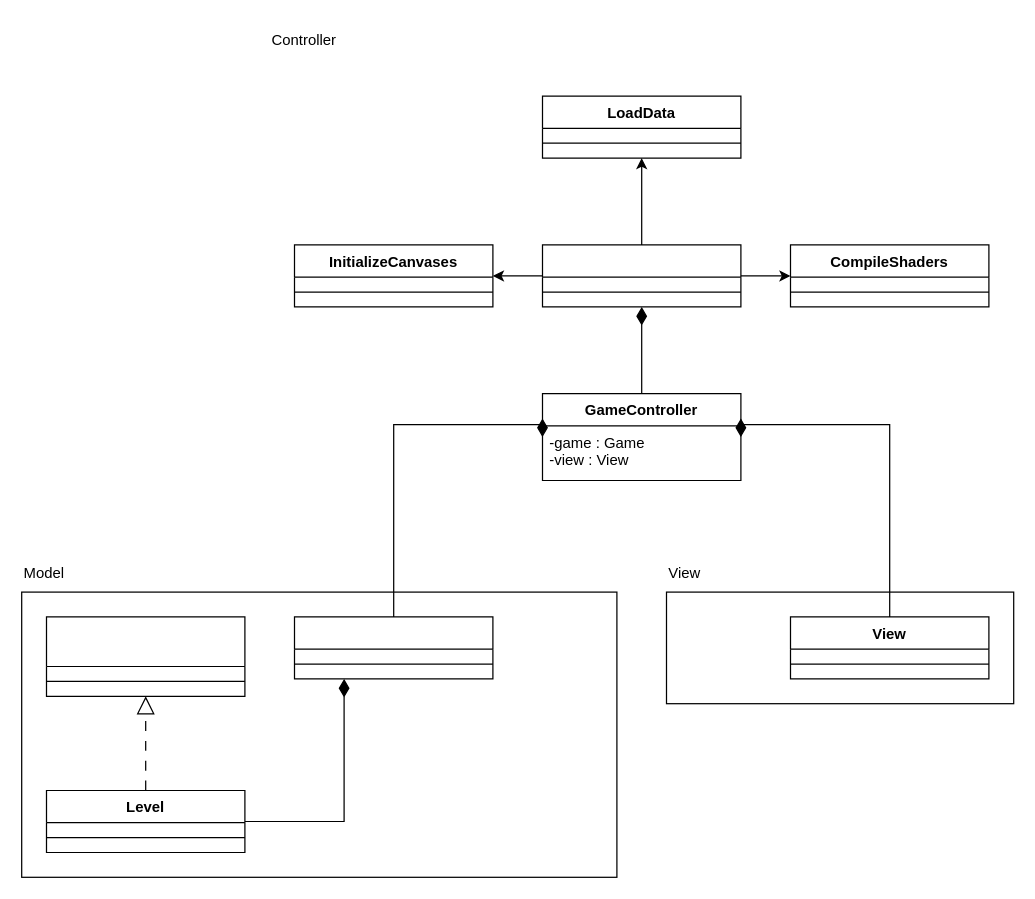
Some shapes in this 1035 by 899 pixel diagram are drawn without their labels. The centre of each missing label's shape, as x and y in pixels:
<<interface>> ILevel: the point at 145,656
Game: the point at 393,647
Init: the point at 641,275
